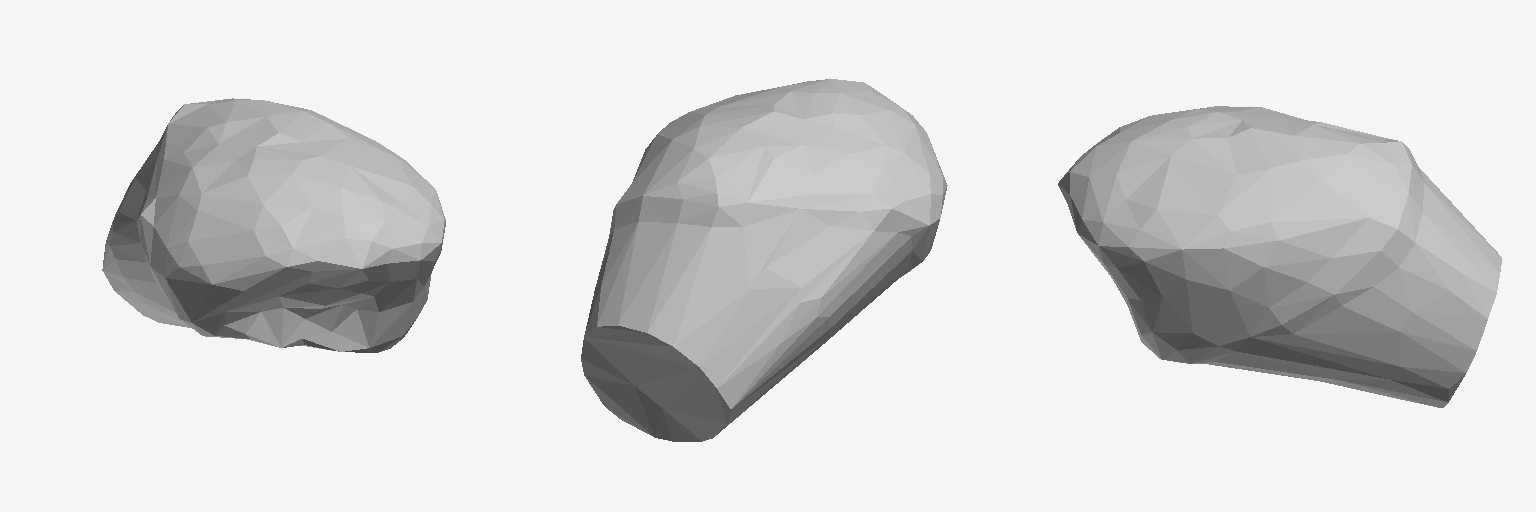
File: local_t13_7780_si.OBJ
3 views of the same model, side by side, from view 1: azimuth 30°, elevation 25°; view 2: azimuth 150°, elevation 25°; view 3: azimuth 270°, elevation 25° (orthographic).
Parts seen in each view (by area): view 1: Group53469; view 2: Group53469; view 3: Group53469.
Part boxes in pixels (left/top/right/bottom): Group53469: left=102, top=98, right=445, bottom=352; Group53469: left=581, top=79, right=947, bottom=441; Group53469: left=1058, top=106, right=1501, bottom=407.
Size of the model in its own units: 7.8 by 7.36 by 11.25.